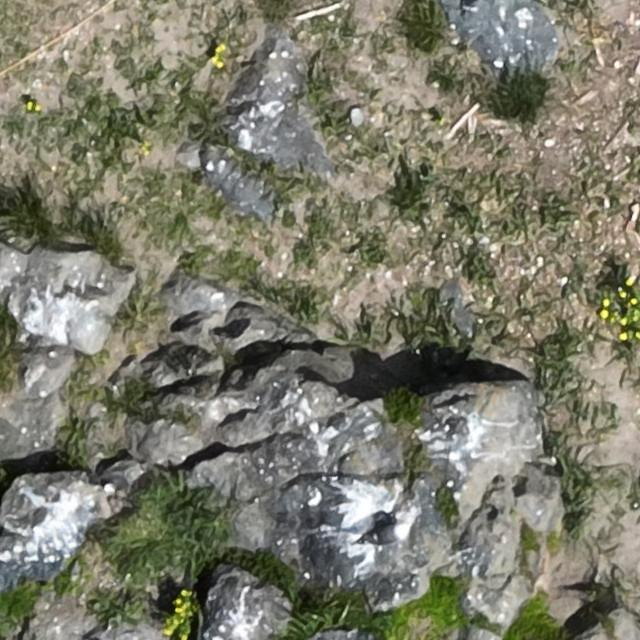umineko: (365, 523, 411, 543)
